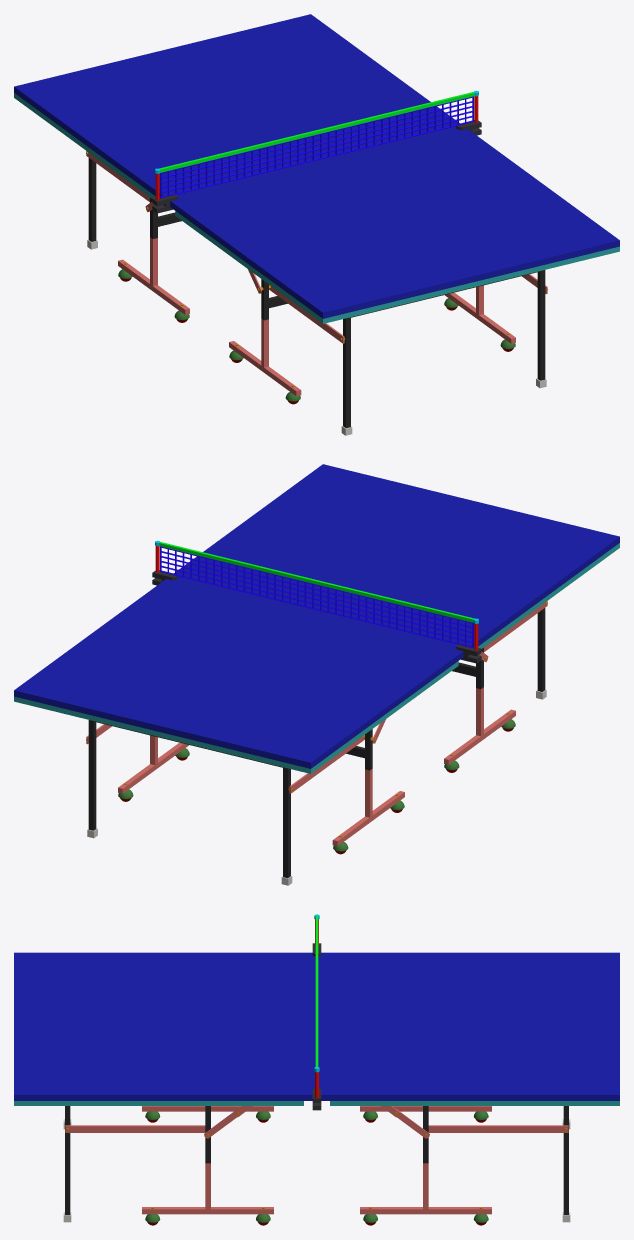
The model's file is TT_Table.fbx.
3 views of the same model, one above another, from view 1: azimuth 30°, elevation 25°; view 2: azimuth 150°, elevation 25°; view 3: azimuth 270°, elevation 25° (orthographic).
Visible parts, largest first — view 1: TT_Table, TT_Net; view 2: TT_Table, TT_Net; view 3: TT_Table, TT_Net.
Part boxes in pixels (<box>): TT_Table: <box>14,14,619,435</box>; TT_Net: <box>152,90,481,213</box>; TT_Table: <box>14,464,619,885</box>; TT_Net: <box>152,540,481,663</box>; TT_Table: <box>14,952,619,1225</box>; TT_Net: <box>312,914,321,1110</box>.
Bounding box in the file's own units: 166 × 91.01 × 274.
